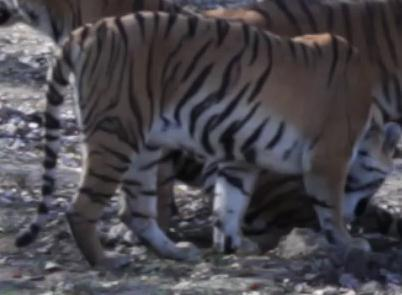tiger: (47, 0, 401, 260)
